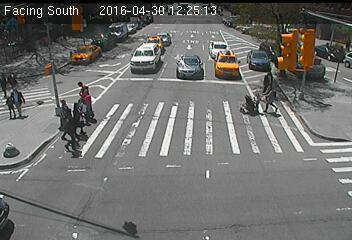neg: (78, 36, 94, 57), (297, 51, 311, 71), (229, 36, 242, 53), (206, 38, 219, 54), (106, 28, 118, 44), (27, 53, 39, 68), (59, 49, 68, 62)
pos: (60, 117, 86, 152), (9, 87, 32, 117), (262, 84, 283, 112)
